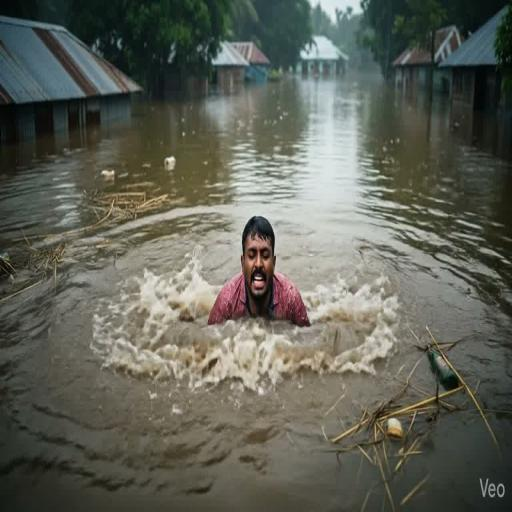human: (207, 212, 311, 336)
